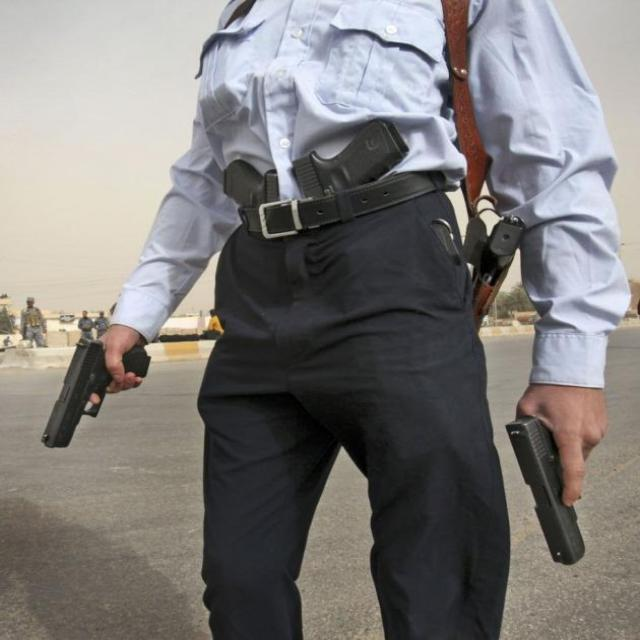gun: (504, 418, 596, 564), (46, 331, 152, 447)
